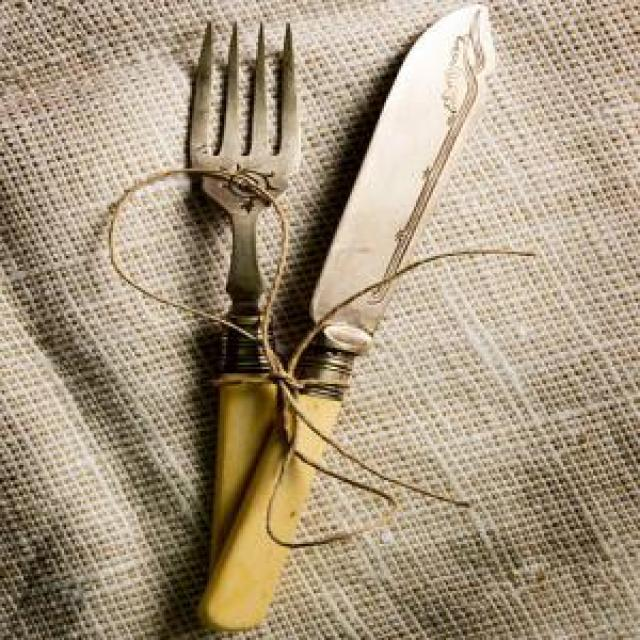knife: (190, 2, 501, 639)
